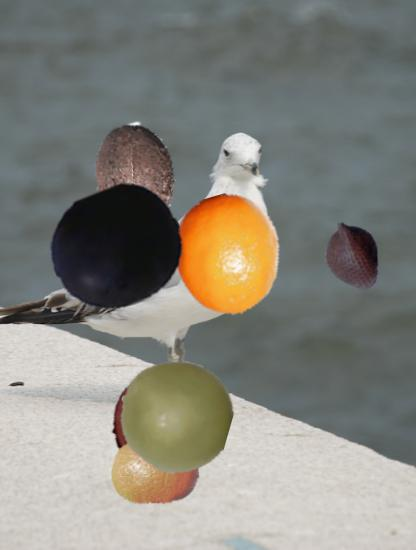Banana: (93, 378, 195, 480)
Cocos: (83, 123, 186, 226)
Grape: (50, 181, 184, 315), (119, 360, 232, 473)
Lemon: (167, 195, 289, 317)
Mandarine: (110, 425, 200, 515)
Salak: (316, 221, 388, 293)
